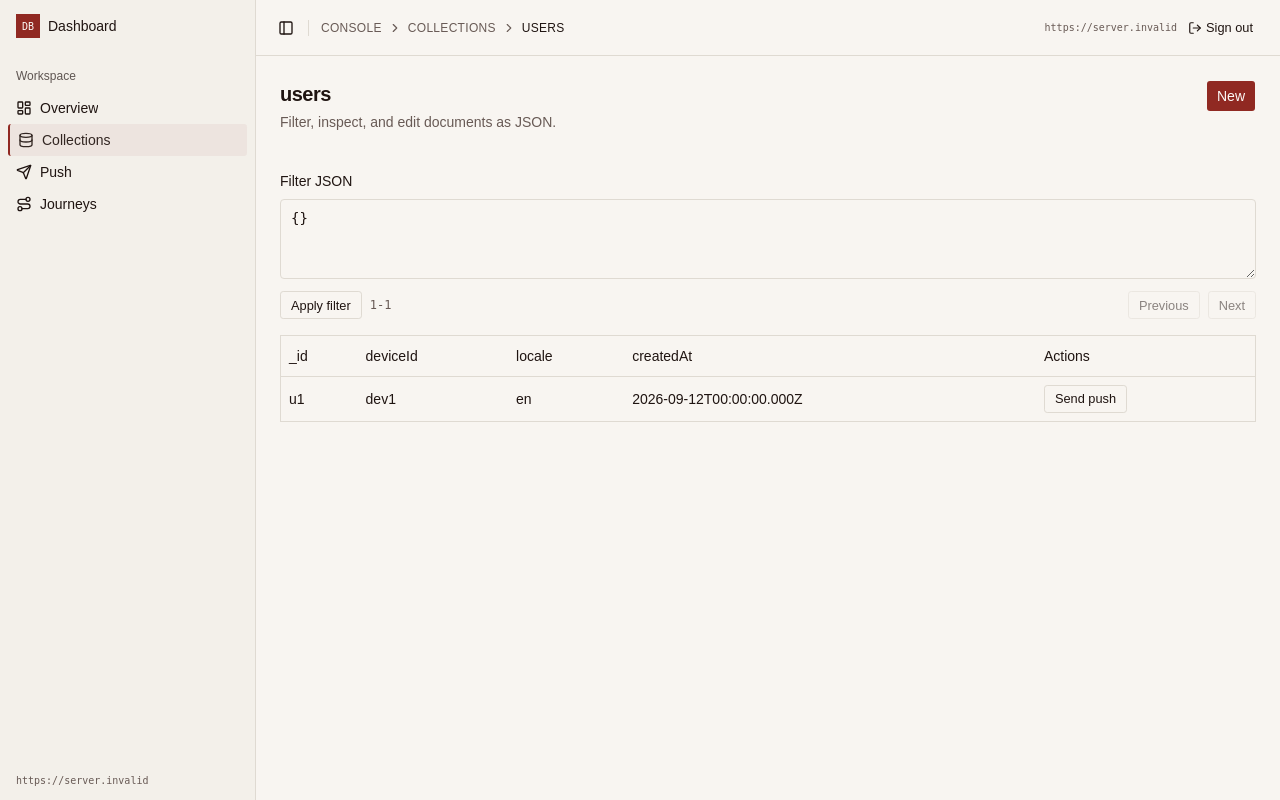
Test: operator dashboard › deletes a document and closes the dialog
Click the text "dev1".
click(381, 399)  # box [366,391,396,407]
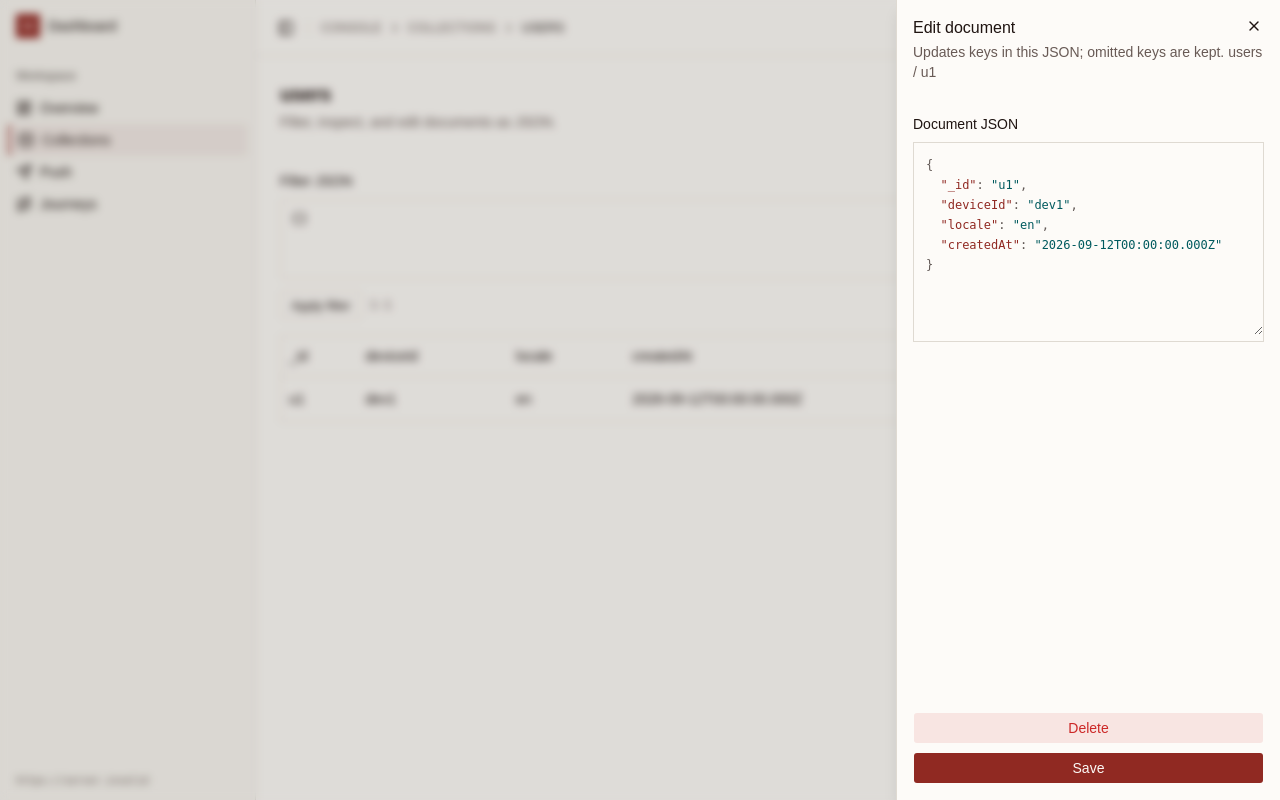
Click the button "Delete".
click(1088, 728)  # box [913,712,1264,744]
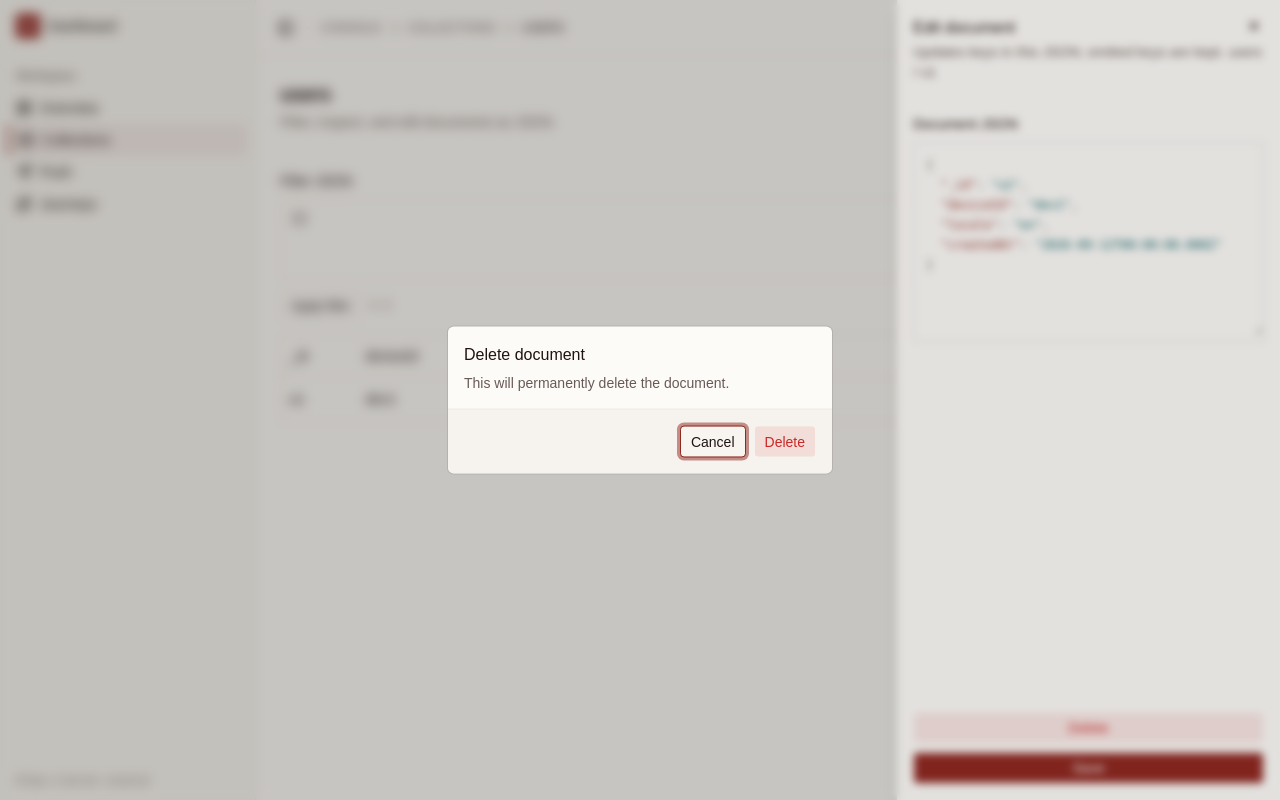
Click the button "Delete".
click(785, 442)  # box [754,426,816,458]
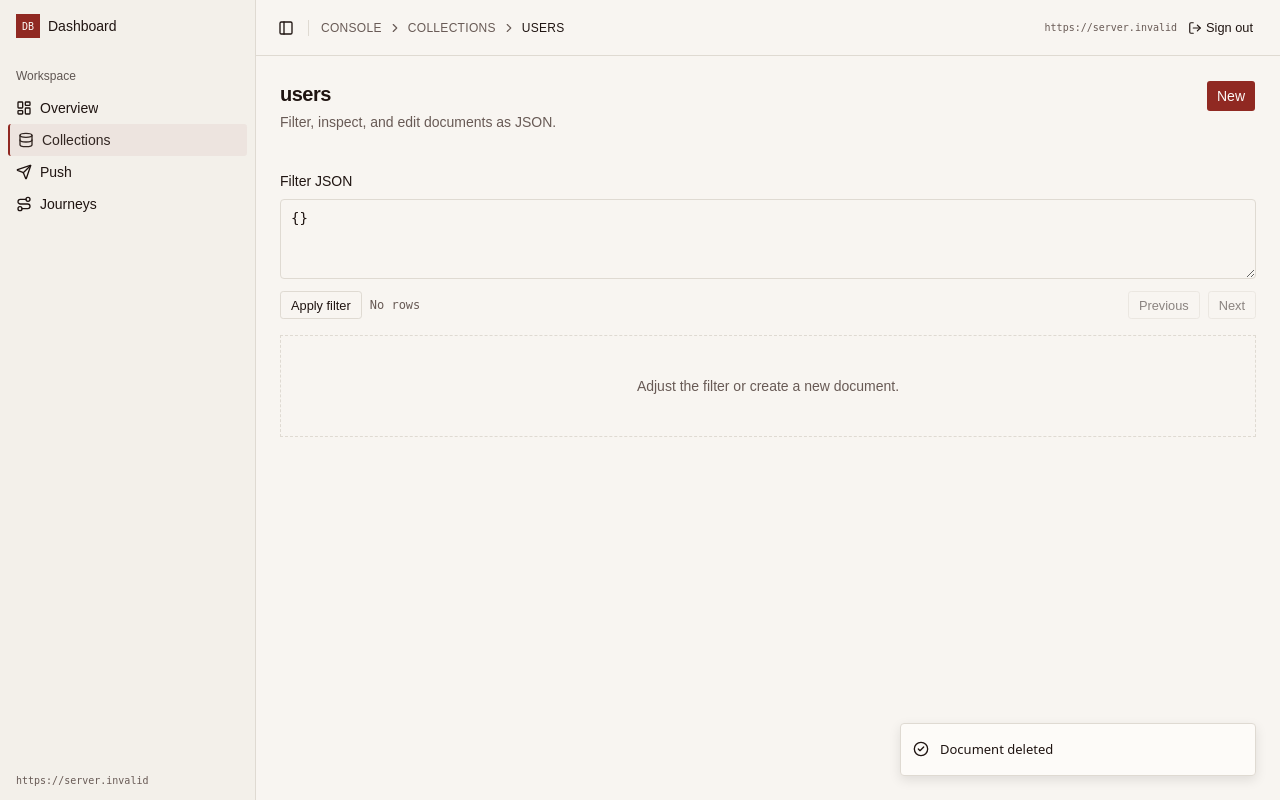
Expected: the text "Document deleted" is shown, [940,740,1053,759]
Expected: the dialog is gone
